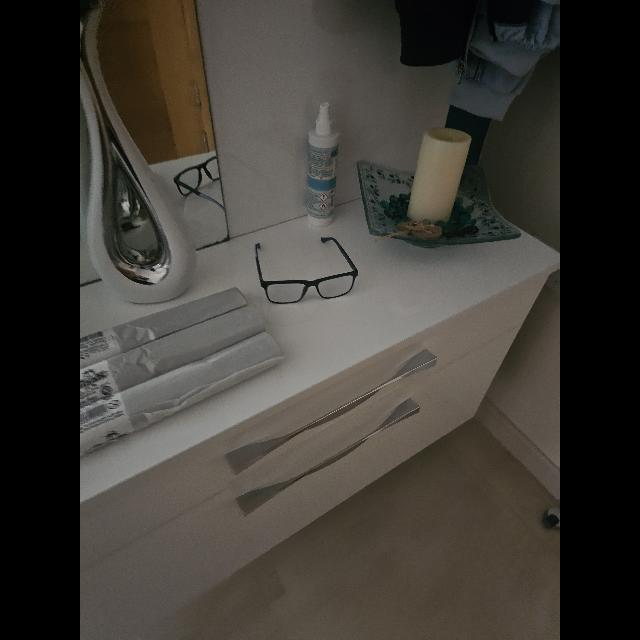glasses: (255, 237, 358, 303), (173, 156, 224, 210)
